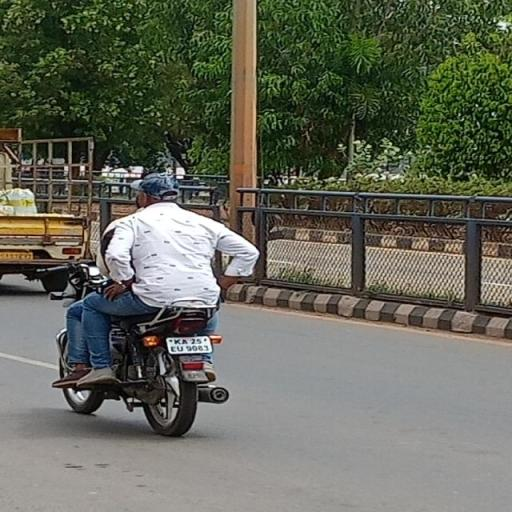bike: (49, 165, 280, 440)
numberplate: (168, 336, 214, 354)
withouthelmet: (142, 172, 182, 202)
